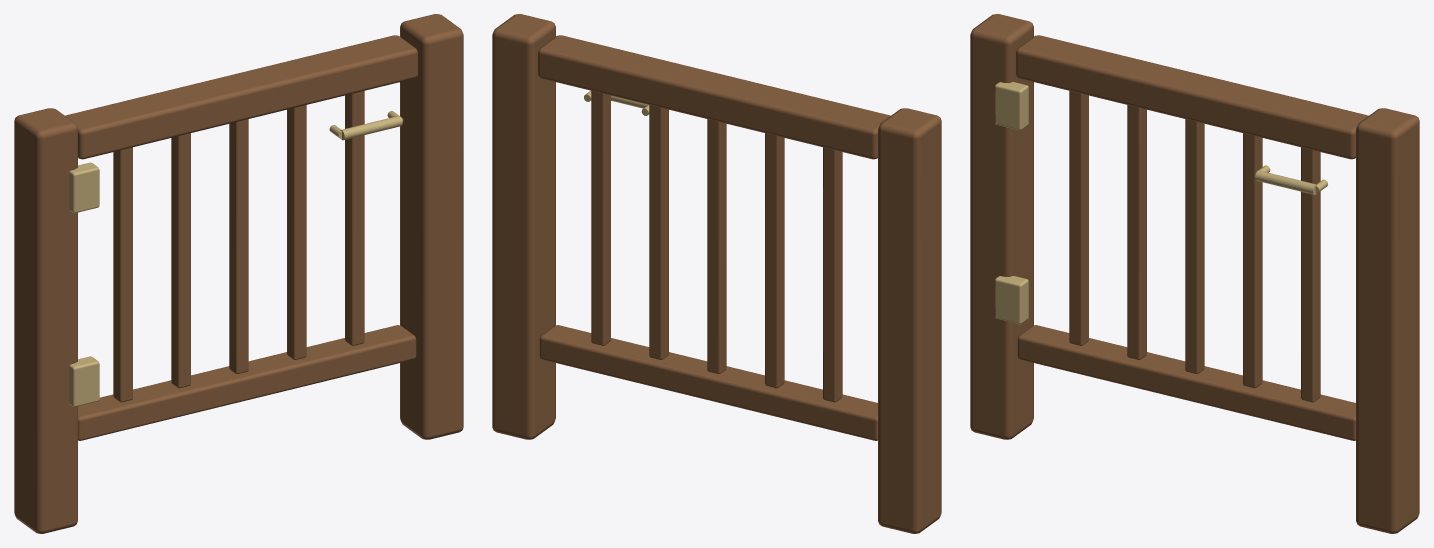
File: city-courthouse-and-records-office-city-courthouse-and-42805629__30968.glb
3 renders of one model, left to right at view 1: azimuth 30°, elevation 25°; view 2: azimuth 150°, elevation 25°; view 3: azimuth 330°, elevation 25°, orthographic.
Visible parts, largest first — view 1: city-courthouse-and-records-office-rail-access-gate; view 2: city-courthouse-and-records-office-rail-access-gate; view 3: city-courthouse-and-records-office-rail-access-gate.
Boxes of the visible parts, left/top/right/bottom form: city-courthouse-and-records-office-rail-access-gate: left=14, top=14, right=463, bottom=533; city-courthouse-and-records-office-rail-access-gate: left=492, top=14, right=941, bottom=533; city-courthouse-and-records-office-rail-access-gate: left=970, top=14, right=1419, bottom=533.
Bounding box in the file's own units: 1.11 × 1 × 0.162.
